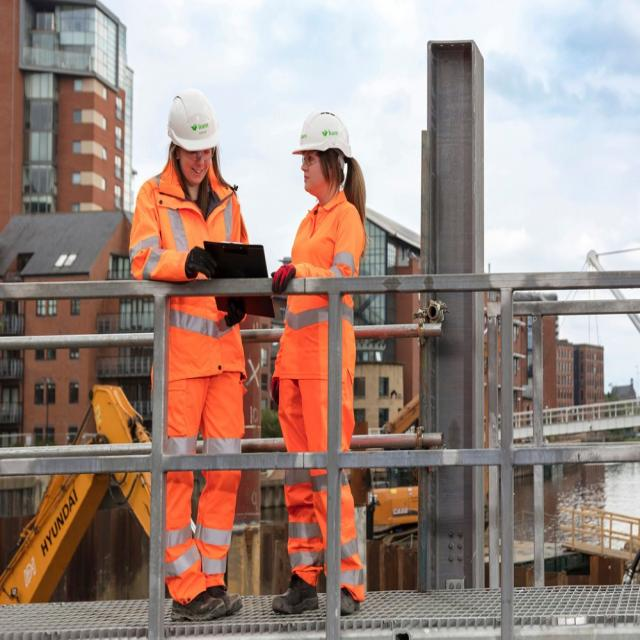Reflective-Jacket: (136, 172, 249, 390), (273, 203, 367, 449)
Safety-Helmet: (163, 80, 223, 154), (290, 100, 354, 163)
